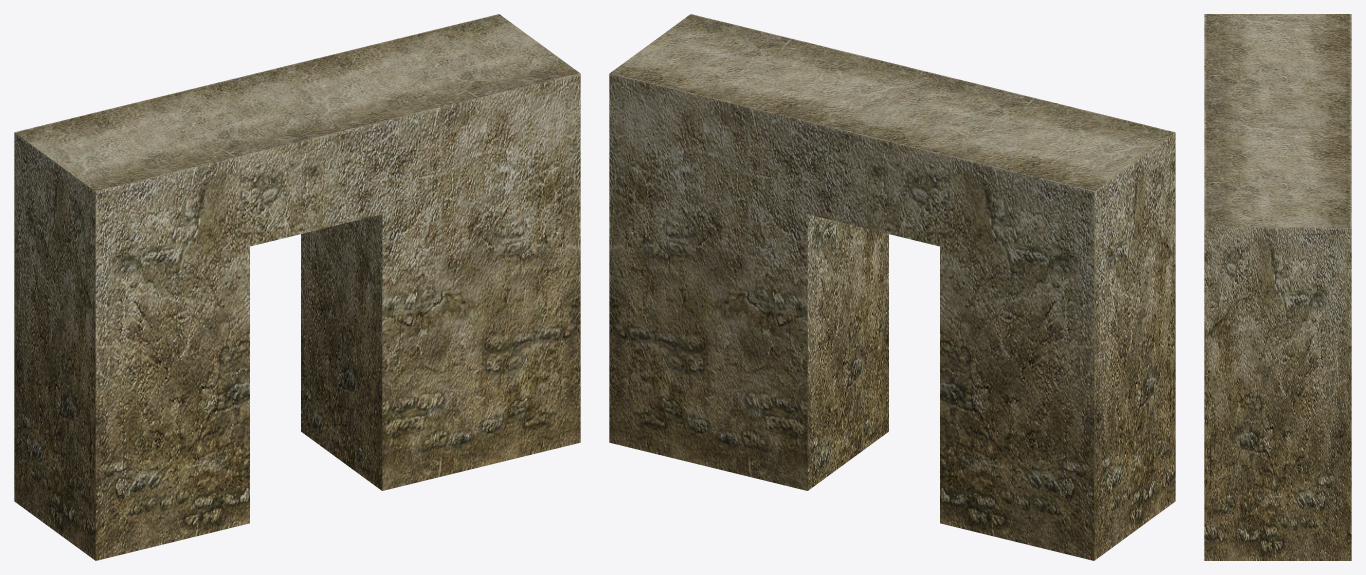
The model's file is hrt_wall3.glb.
The picture shows the model from 3 angles, left to right: view 1: azimuth 30°, elevation 25°; view 2: azimuth 150°, elevation 25°; view 3: azimuth 270°, elevation 25°; orthographic projection. The views are drawn at different scales.
Parts seen in each view (by area): view 1: hrt_wall3; view 2: hrt_wall3; view 3: hrt_wall3.
Part boxes in pixels (x1,y1,x2,y2): hrt_wall3: (14, 14, 580, 560); hrt_wall3: (609, 14, 1175, 560); hrt_wall3: (1204, 14, 1351, 560).
Bounding box in the file's own units: 5.5 × 4 × 1.6.
4 materials, 4 textured.
